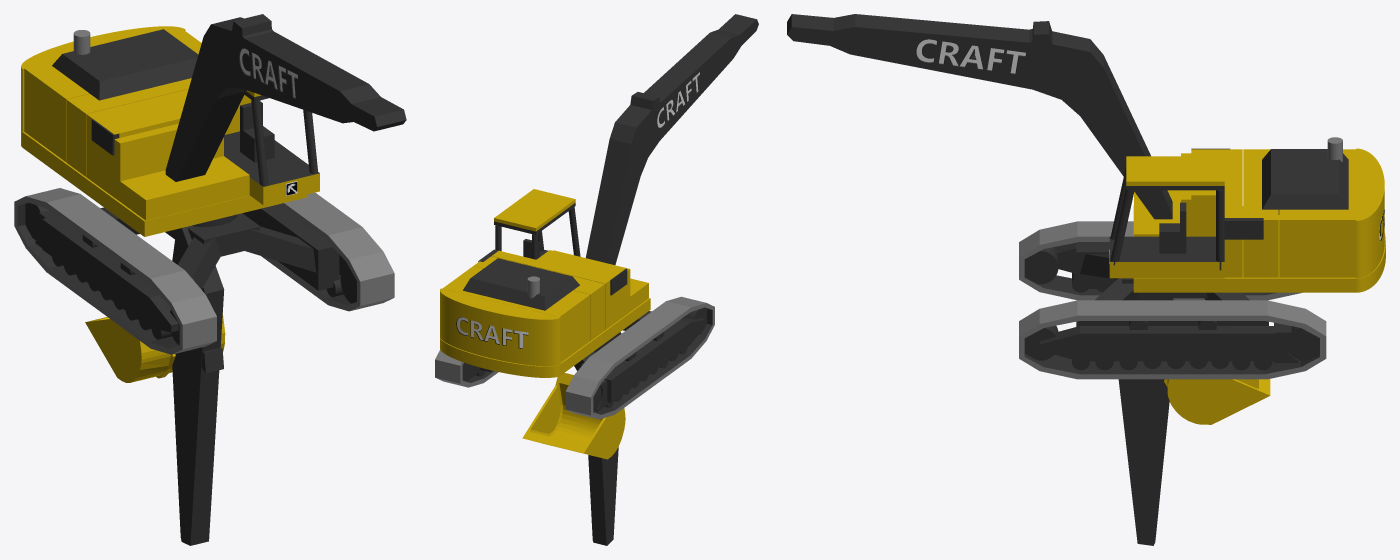
The model's file is excavator.obj.
3 views of the same model, side by side, from view 1: azimuth 30°, elevation 25°; view 2: azimuth 150°, elevation 25°; view 3: azimuth 270°, elevation 25° (orthographic). The views are drawn at different scales.
Parts seen in each view (by area): view 1: Object.6, Object.1, Object.9, Object.10, Object.11, Object.5; view 2: Object.6, Object.9, Object.1, Object.5, Object.11, Object.10, Object.7, Object.4; view 3: Object.1, Object.6, Object.9, Object.10, Object.11, Object.5, Object.7.
Boxes of the visible parts, <box> form: Object.6: <box>22,29,319,236</box>; Object.1: <box>14,188,394,354</box>; Object.9: <box>165,14,406,181</box>; Object.10: <box>172,225,224,545</box>; Object.11: <box>85,313,225,382</box>; Object.5: <box>21,26,185,131</box>; Object.6: <box>443,203,650,375</box>; Object.9: <box>585,14,758,264</box>; Object.1: <box>435,296,714,419</box>; Object.5: <box>440,288,560,366</box>; Object.11: <box>522,371,625,459</box>; Object.10: <box>588,332,621,545</box>; Object.7: <box>494,189,575,231</box>; Object.4: <box>440,338,560,377</box>; Object.1: <box>1019,221,1326,379</box>; Object.6: <box>1109,148,1355,292</box>; Object.9: <box>787,14,1172,219</box>; Object.10: <box>1118,298,1173,545</box>; Object.11: <box>1164,379,1270,424</box>; Object.5: <box>1356,148,1384,278</box>; Object.7: <box>1126,156,1224,185</box>.
Size of the model in its own units: 4.64 by 11.95 by 12.44.
